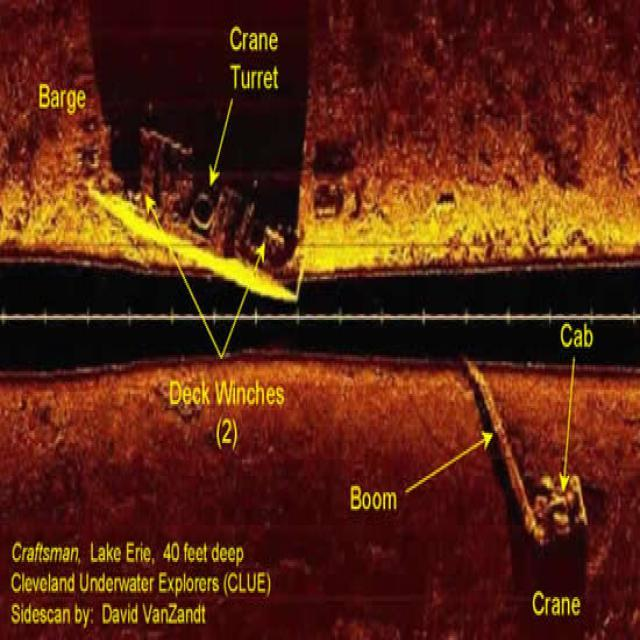shipwreck: (84, 121, 302, 312), (462, 357, 589, 548)
